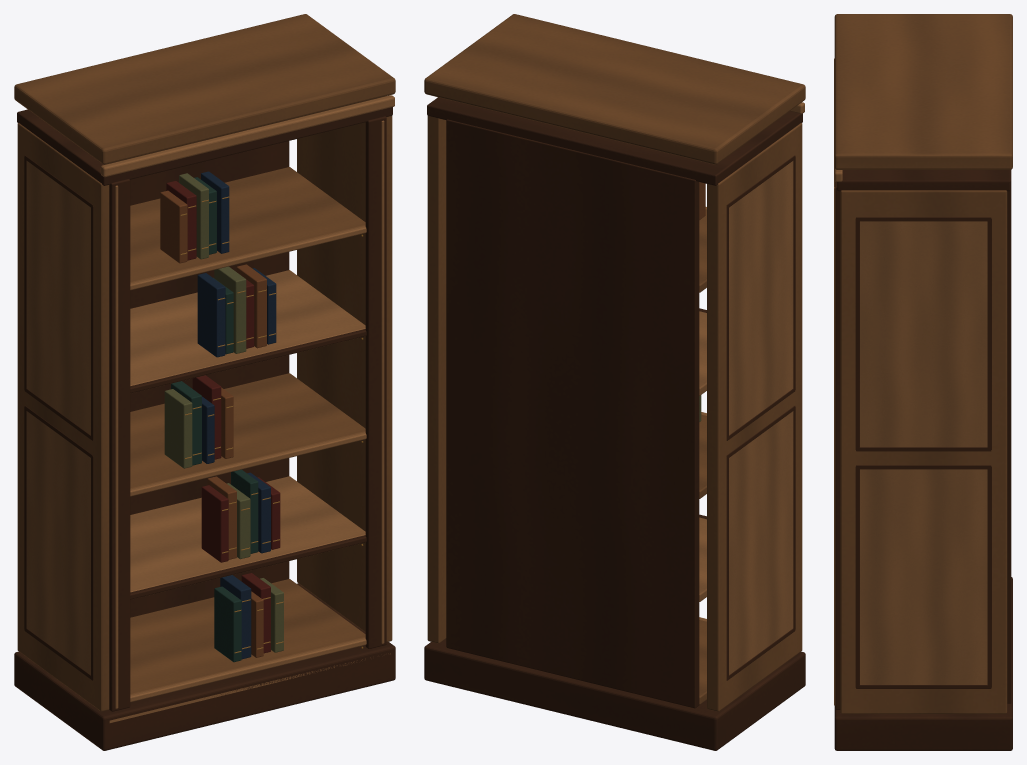
File: asset.glb
3 renders of one model, left to right at view 1: azimuth 30°, elevation 25°; view 2: azimuth 150°, elevation 25°; view 3: azimuth 270°, elevation 25°, orthographic.
Visible parts, largest first — view 1: MaterialBatch_Room_furniture_quarter-sawn_oak, MaterialBatch_Room_furniture_light_oak, MaterialBatch_Room_furniture_smoked_walnut, MaterialBatch_Household_bookcase_navy_cloth_bindings, MaterialBatch_Household_bookcase_olive_linen_bindings, MaterialBatch_Household_bookcase_oxblood_leather_bindings, MaterialBatch_Household_bookcase_russet_cloth_bindings, MaterialBatch_Household_bookcase_forest_cloth_bindings, MaterialBatch_Household_bookcase_aged_gold_spine_tooling; view 2: MaterialBatch_Room_furniture_smoked_walnut, MaterialBatch_Room_furniture_quarter-sawn_oak, MaterialBatch_Room_furniture_light_oak; view 3: MaterialBatch_Room_furniture_light_oak, MaterialBatch_Room_furniture_quarter-sawn_oak, MaterialBatch_Room_furniture_smoked_walnut.
Boxes of the visible parts, bbox=[...] form: MaterialBatch_Room_furniture_quarter-sawn_oak: bbox=[14, 14, 395, 711]; MaterialBatch_Room_furniture_light_oak: bbox=[26, 95, 394, 722]; MaterialBatch_Room_furniture_smoked_walnut: bbox=[14, 107, 395, 750]; MaterialBatch_Household_bookcase_navy_cloth_bindings: bbox=[197, 171, 276, 659]; MaterialBatch_Household_bookcase_olive_linen_bindings: bbox=[164, 173, 283, 652]; MaterialBatch_Household_bookcase_oxblood_leather_bindings: bbox=[166, 181, 280, 653]; MaterialBatch_Household_bookcase_russet_cloth_bindings: bbox=[160, 190, 266, 657]; MaterialBatch_Household_bookcase_forest_cloth_bindings: bbox=[171, 177, 258, 662]; MaterialBatch_Household_bookcase_aged_gold_spine_tooling: bbox=[180, 196, 283, 653]; MaterialBatch_Room_furniture_smoked_walnut: bbox=[424, 97, 805, 750]; MaterialBatch_Room_furniture_quarter-sawn_oak: bbox=[424, 14, 805, 711]; MaterialBatch_Room_furniture_light_oak: bbox=[699, 102, 804, 674]; MaterialBatch_Room_furniture_light_oak: bbox=[834, 58, 987, 705]; MaterialBatch_Room_furniture_quarter-sawn_oak: bbox=[834, 14, 1012, 713]; MaterialBatch_Room_furniture_smoked_walnut: bbox=[834, 170, 1012, 750].
Bounding box in the file's own units: 32 × 63 × 17.06.
Materials: 11 (11 with a texture image).
